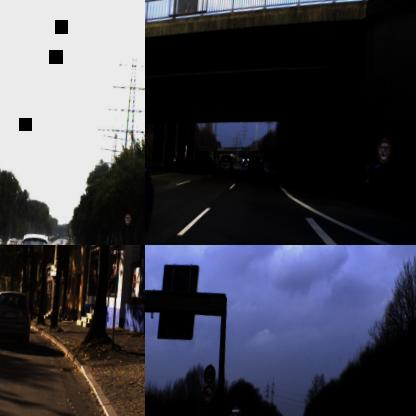no overtaking -trucks-: (201, 384, 215, 405)
speed limit 120: (376, 138, 393, 164), (202, 364, 216, 386)
speed limit 70: (123, 211, 132, 226)
